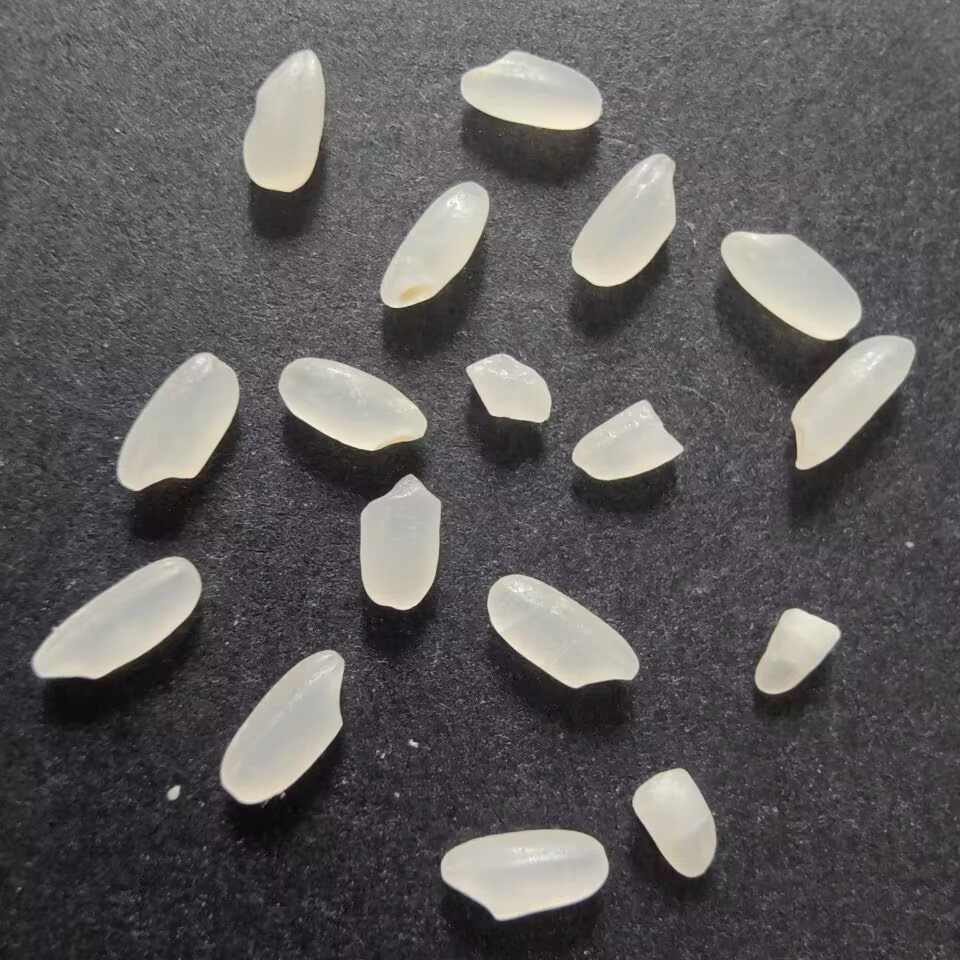broken: (626, 763, 722, 886), (564, 394, 684, 485), (748, 603, 843, 697), (463, 348, 555, 429)
rice: (22, 552, 204, 688), (214, 640, 348, 809), (482, 566, 640, 698), (109, 348, 247, 498), (783, 329, 918, 477), (718, 223, 867, 344), (562, 147, 685, 291), (438, 825, 608, 925), (272, 354, 431, 455), (376, 178, 493, 311), (241, 41, 338, 199), (353, 467, 447, 615), (453, 46, 603, 132)
